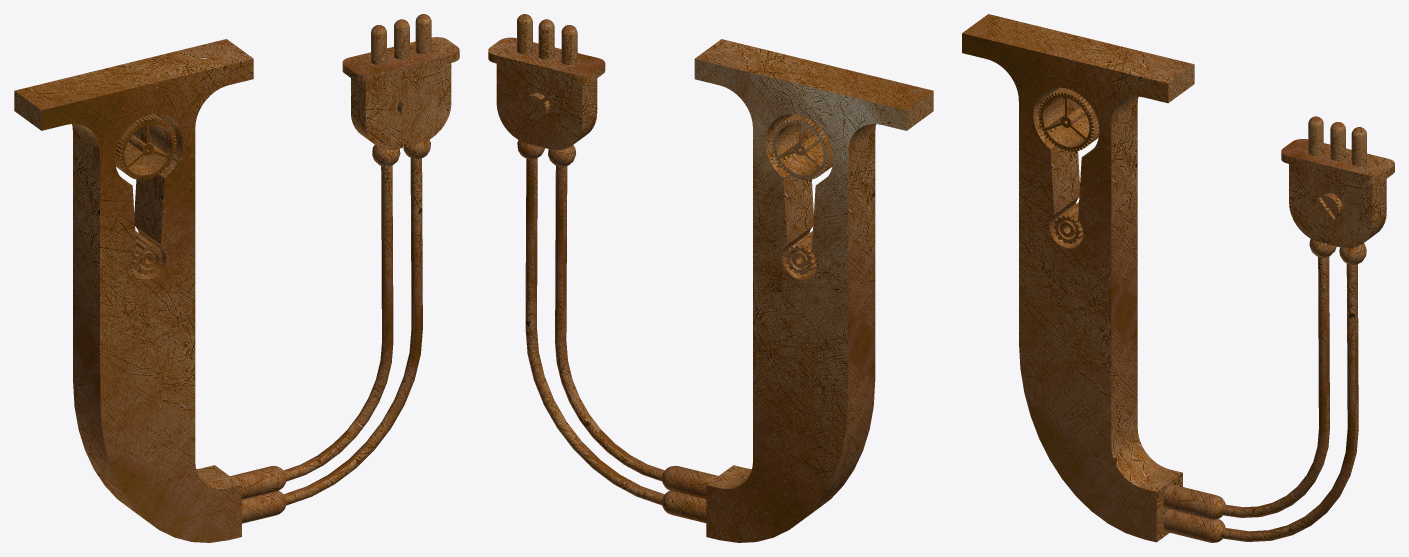
3 views of the same model, side by side, from view 1: azimuth 30°, elevation 25°; view 2: azimuth 150°, elevation 25°; view 3: azimuth 330°, elevation 25° (orthographic). The views are drawn at different scales.
Visible parts, largest first — view 1: U, Tube_363, Tube_364, Cogwheel_223, Capsule_028, Capsule_017, Cogwheel_224, Capsule_019, Capsule_024, Capsule_016, Screw_816; view 2: U, Tube_363, Tube_364, Cogwheel_223, Capsule_028, Capsule_017, Cogwheel_224, Capsule_016, Capsule_024, Capsule_019, Screw_816; view 3: U, Tube_363, Tube_364, Cogwheel_223, Capsule_028, Capsule_017, Cogwheel_224, Capsule_016, Capsule_024, Capsule_019, Screw_816.
Boxes of the visible parts, x1=… form: U: x1=14, y1=37, x2=459, y2=542; Tube_363: x1=283, y1=158, x2=422, y2=505; Tube_364: x1=283, y1=165, x2=393, y2=481; Cogwheel_223: x1=115, y1=114, x2=176, y2=180; Capsule_028: x1=230, y1=466, x2=286, y2=499; Capsule_017: x1=242, y1=491, x2=286, y2=523; Cogwheel_224: x1=131, y1=231, x2=162, y2=274; Capsule_019: x1=415, y1=14, x2=431, y2=54; Capsule_024: x1=394, y1=19, x2=409, y2=59; Capsule_016: x1=371, y1=25, x2=386, y2=65; Screw_816: x1=397, y1=92, x2=425, y2=120; U: x1=488, y1=37, x2=933, y2=542; Tube_363: x1=525, y1=158, x2=664, y2=505; Tube_364: x1=555, y1=166, x2=664, y2=481; Cogwheel_223: x1=771, y1=114, x2=833, y2=180; Capsule_028: x1=662, y1=465, x2=717, y2=499; Capsule_017: x1=662, y1=490, x2=706, y2=523; Cogwheel_224: x1=785, y1=231, x2=816, y2=274; Capsule_016: x1=561, y1=25, x2=577, y2=65; Capsule_024: x1=538, y1=19, x2=554, y2=59; Capsule_019: x1=517, y1=14, x2=532, y2=54; Screw_816: x1=522, y1=92, x2=550, y2=120; U: x1=962, y1=14, x2=1394, y2=542; Tube_363: x1=1220, y1=263, x2=1358, y2=541; Tube_364: x1=1220, y1=256, x2=1329, y2=517; Cogwheel_223: x1=1038, y1=87, x2=1099, y2=151; Capsule_028: x1=1163, y1=484, x2=1225, y2=519; Capsule_017: x1=1163, y1=509, x2=1225, y2=542; Cogwheel_224: x1=1053, y1=202, x2=1083, y2=243; Capsule_016: x1=1308, y1=116, x2=1323, y2=155; Capsule_024: x1=1330, y1=122, x2=1345, y2=160; Capsule_019: x1=1351, y1=127, x2=1366, y2=165; Screw_816: x1=1316, y1=193, x2=1342, y2=220.
Bounding box in the file's own units: 90.64 × 96.82 × 10.
1 material, 1 textured.
